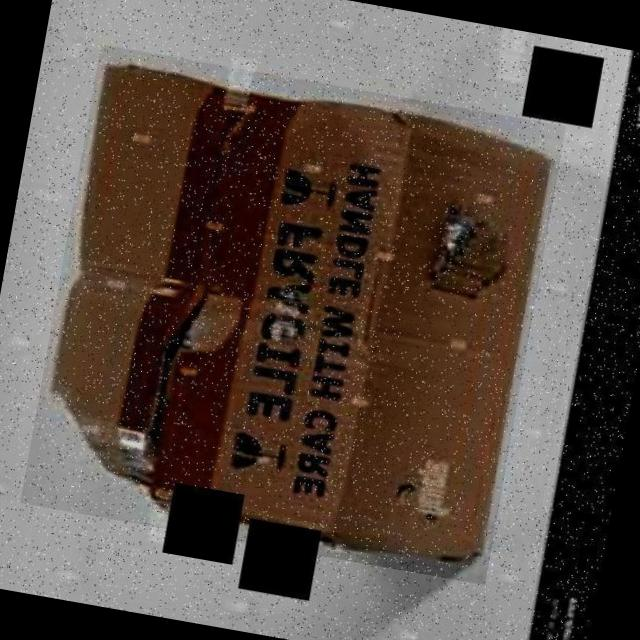box: (20, 44, 567, 585)
